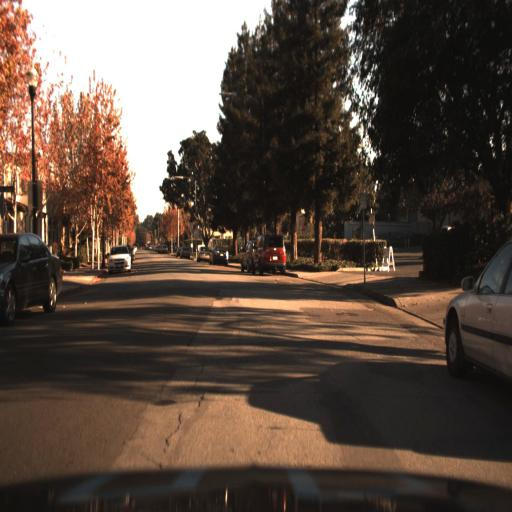car: (444, 236, 512, 393), (0, 230, 62, 327), (254, 235, 286, 278), (105, 241, 135, 278), (106, 243, 131, 274), (239, 235, 253, 272)
